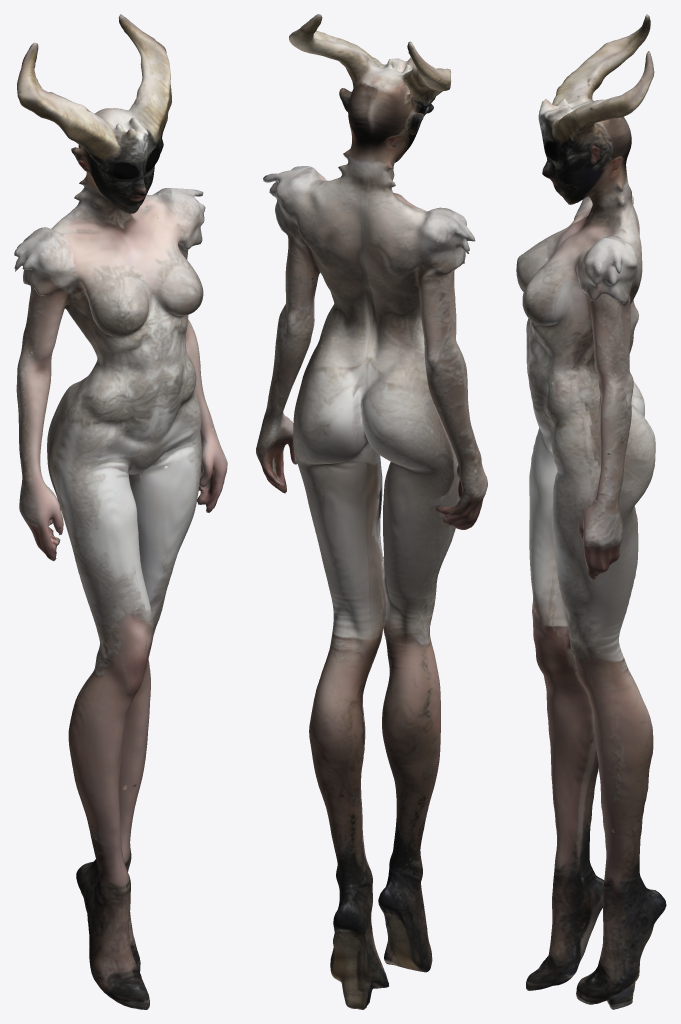
3 views of the same model, side by side, from view 1: azimuth 30°, elevation 25°; view 2: azimuth 150°, elevation 25°; view 3: azimuth 270°, elevation 25° (orthographic). The views are drawn at different scales.
Size of the model in its own units: 0.4514 by 2.01 by 0.2822.
Materials: 1 (1 with a texture image).
